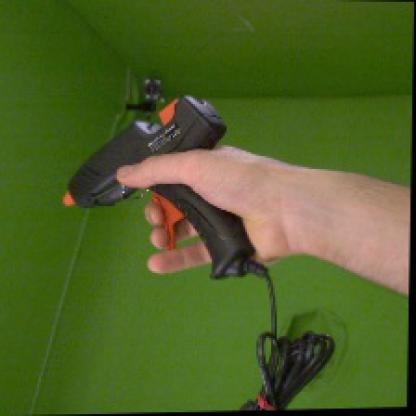Hand: (119, 146, 300, 274)
